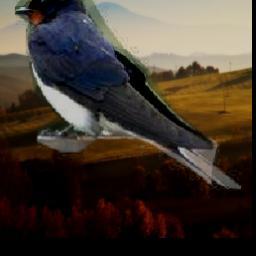Swallow: (15, 0, 241, 198)
